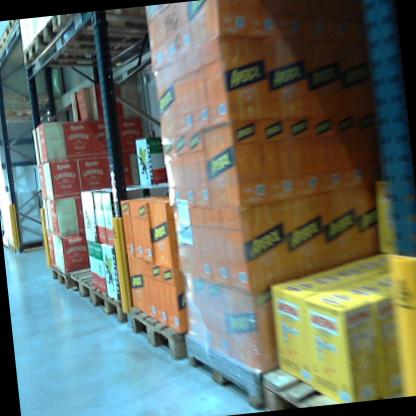pallet: (31, 4, 177, 79), (188, 324, 282, 413), (18, 26, 145, 83), (259, 352, 377, 410), (127, 297, 209, 371), (50, 7, 166, 41), (90, 283, 131, 331), (0, 86, 51, 119), (70, 263, 100, 305), (5, 232, 49, 256), (45, 265, 72, 293), (0, 26, 20, 58), (1, 19, 26, 35)
